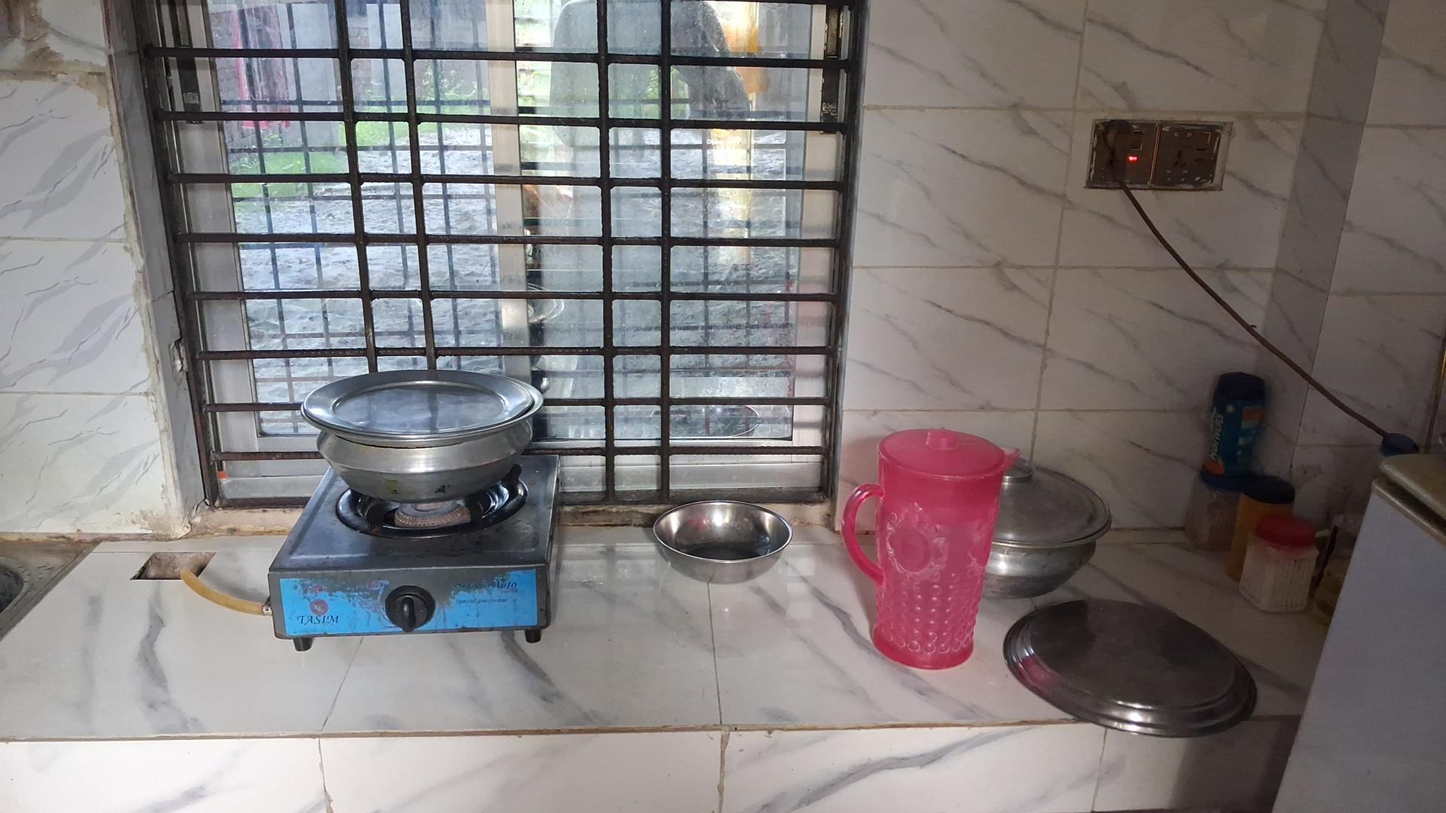Bowl: (649, 500, 792, 585)
Jar: (1239, 512, 1318, 608), (1200, 372, 1266, 470), (1185, 470, 1245, 541)
Jug: (846, 436, 1020, 672)
Plate: (1003, 591, 1256, 740)
Pot: (300, 369, 541, 500), (989, 463, 1107, 591)
